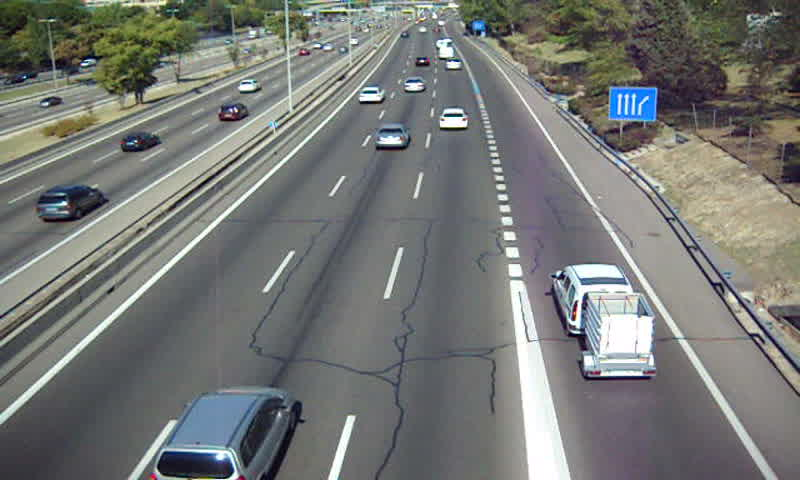car: (149, 386, 294, 480), (375, 125, 410, 148), (438, 108, 469, 129), (358, 87, 386, 104), (402, 77, 427, 94), (446, 58, 464, 71)
van: (551, 264, 634, 337)
